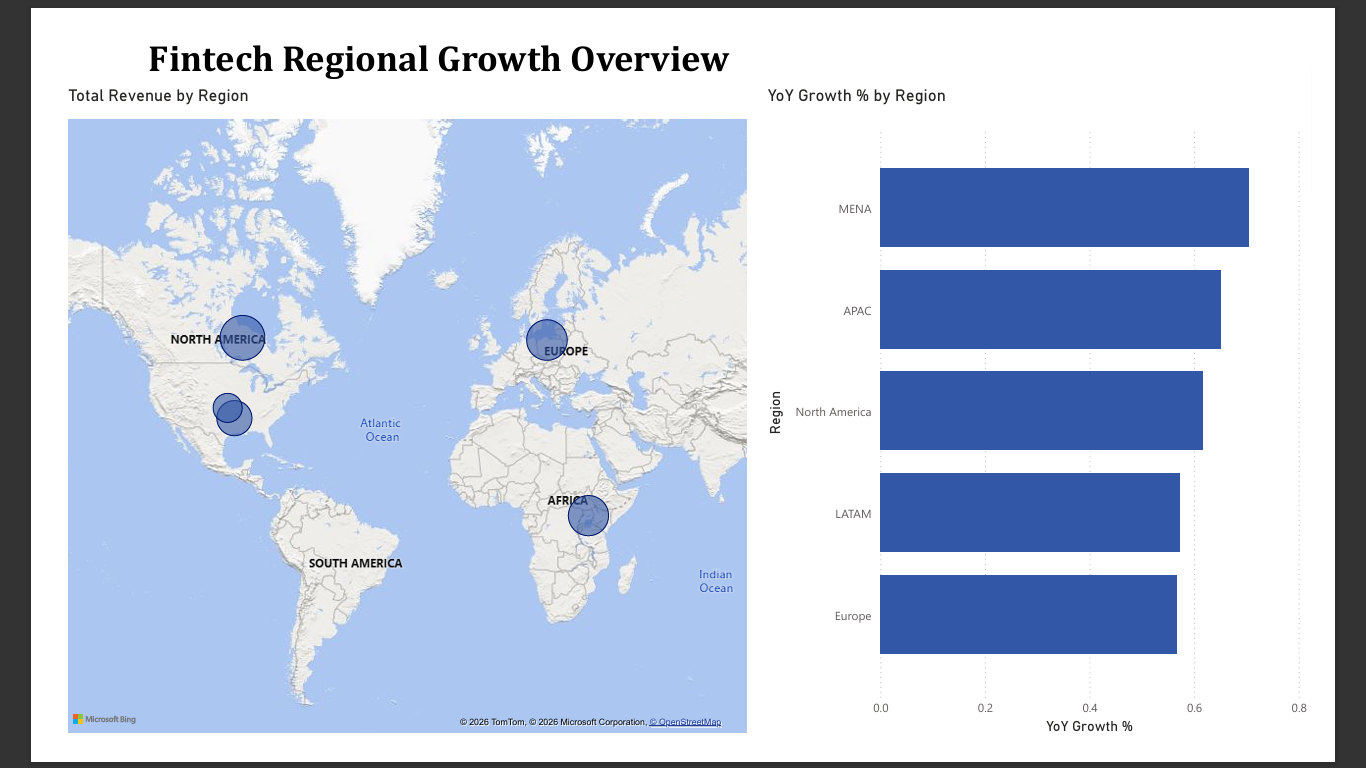

What the dashboard file says about the page in this screenshot:
{"tool":"powerbi","page":{"name":"Regional Growth","canvas":[1280,720],"ordinal":2},"visuals":[{"type":"map","fields":{"Category":["fintech_sales_raw.Region"],"Size":["fintech_sales_raw.Total Revenue"]},"box":[9.3,54.7,701.3,665.3],"z":0},{"type":"barChart","fields":{"Category":["fintech_sales_raw.Region"],"Y":["fintech_sales_raw.YoY Growth %"]},"box":[721.3,54.7,558.7,665.3],"z":1},{"type":"textbox","box":[0,0,782.7,54.7],"z":2}]}

Visuals, with their boxes in screenshot pixels (x1, y1, x2, y2), scaled from the page's 1280x720 canvas onto the 1366x768 screenshot:
map - fintech_sales_raw.Region x fintech_sales_raw.Total Revenue: bbox=[10, 58, 758, 767]
barChart - fintech_sales_raw.Region x fintech_sales_raw.YoY Growth %: bbox=[770, 58, 1365, 767]
textbox: bbox=[0, 0, 835, 58]
